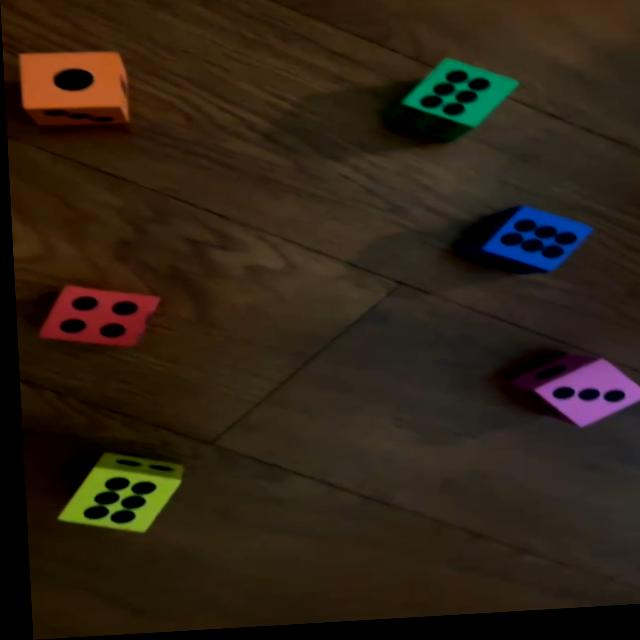cube: (387, 60, 520, 152), (458, 208, 594, 282), (36, 282, 161, 353)
